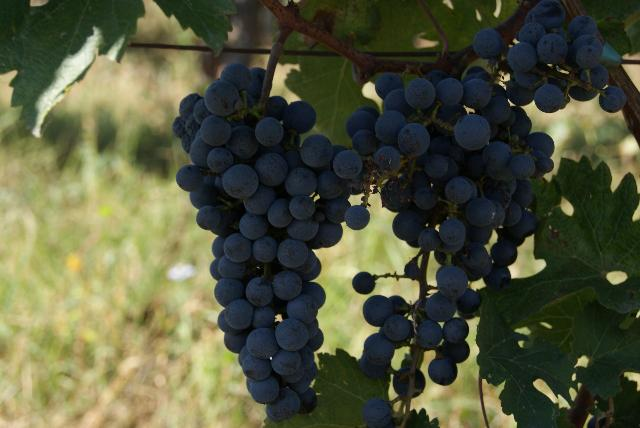grapes: (174, 64, 361, 421), (361, 72, 552, 400), (472, 0, 626, 112)
